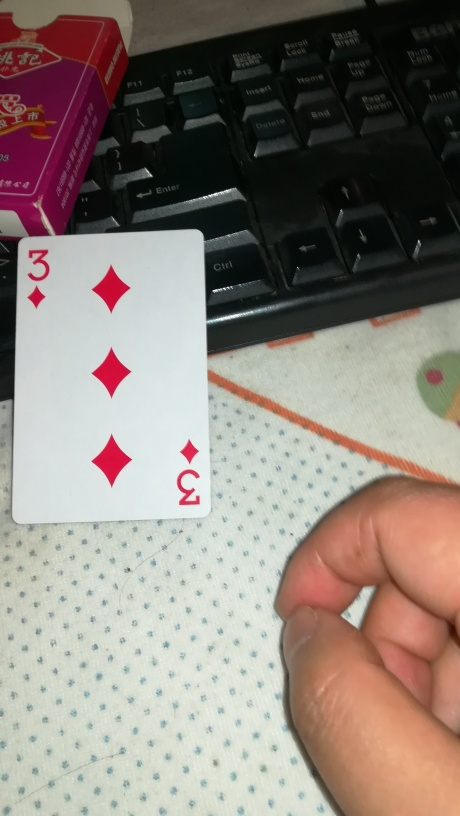fk 3: (8, 226, 219, 525)
